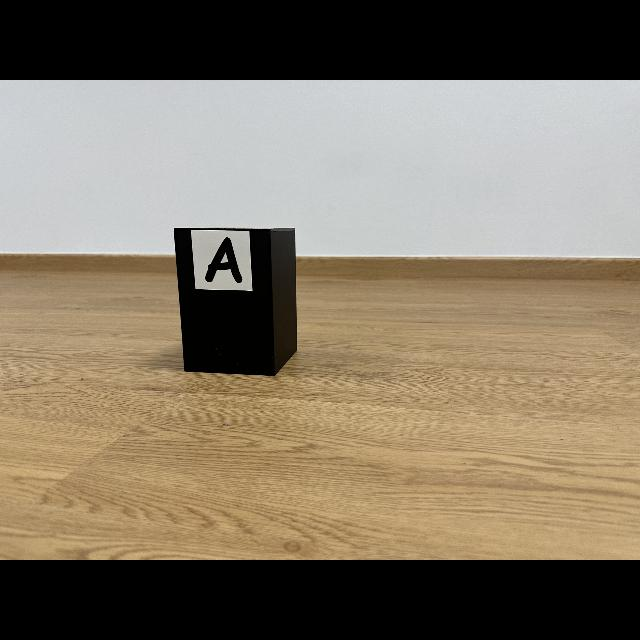A: (205, 238, 242, 282)
